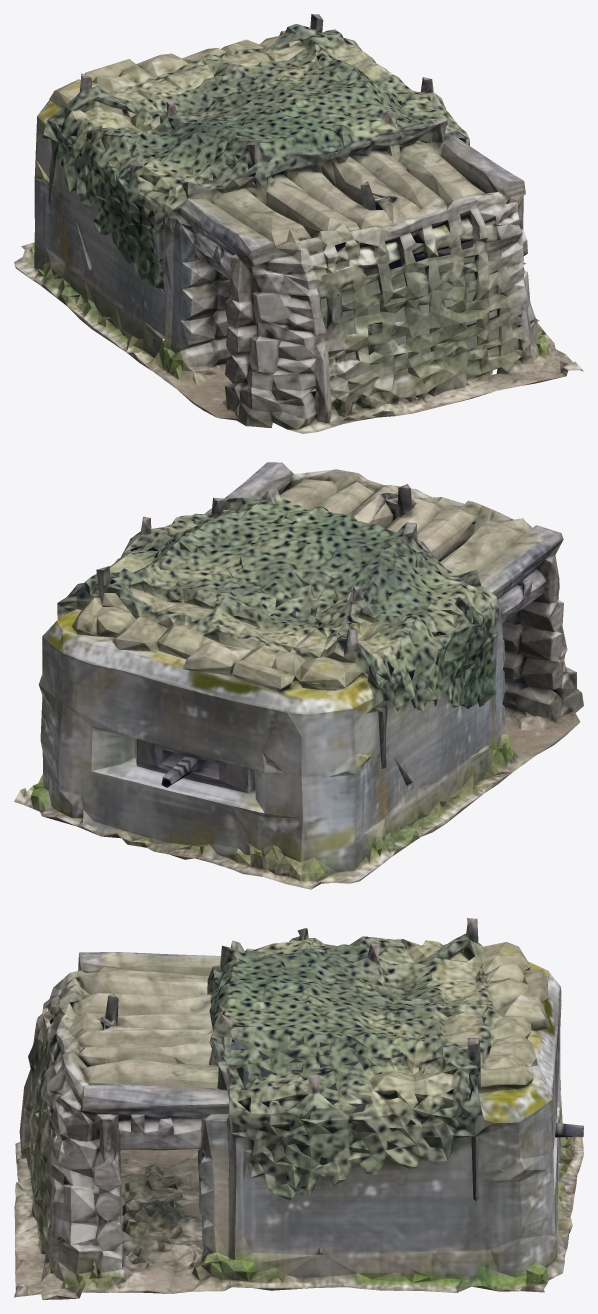
Rendered from bunker.obj.
3 renders of one model, top to bottom at view 1: azimuth 30°, elevation 25°; view 2: azimuth 150°, elevation 25°; view 3: azimuth 270°, elevation 25°, orthographic. The views are drawn at different scales.
Visible parts, largest first — view 1: bunker; view 2: bunker; view 3: bunker.
Part boxes in pixels (bbox=[...]): bunker: bbox=[14, 14, 583, 433]; bunker: bbox=[14, 462, 583, 889]; bunker: bbox=[14, 918, 583, 1299].
Bounding box in the file's own units: 4.38 × 2.72 × 6.
Materials: 1 (1 with a texture image).
